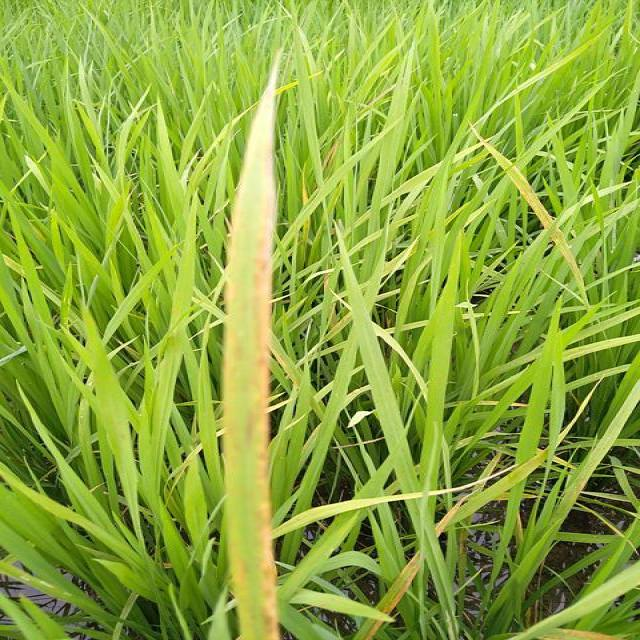Leaf Streak: (220, 62, 279, 639)
